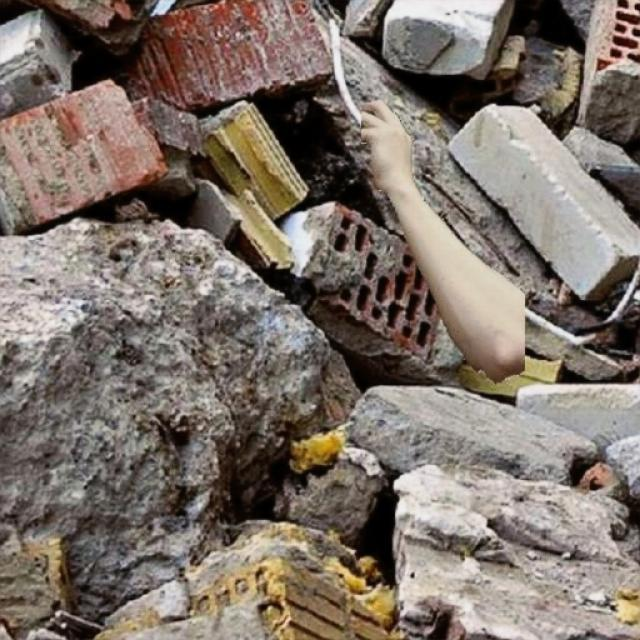Person in Rubble: (361, 100, 524, 382)
